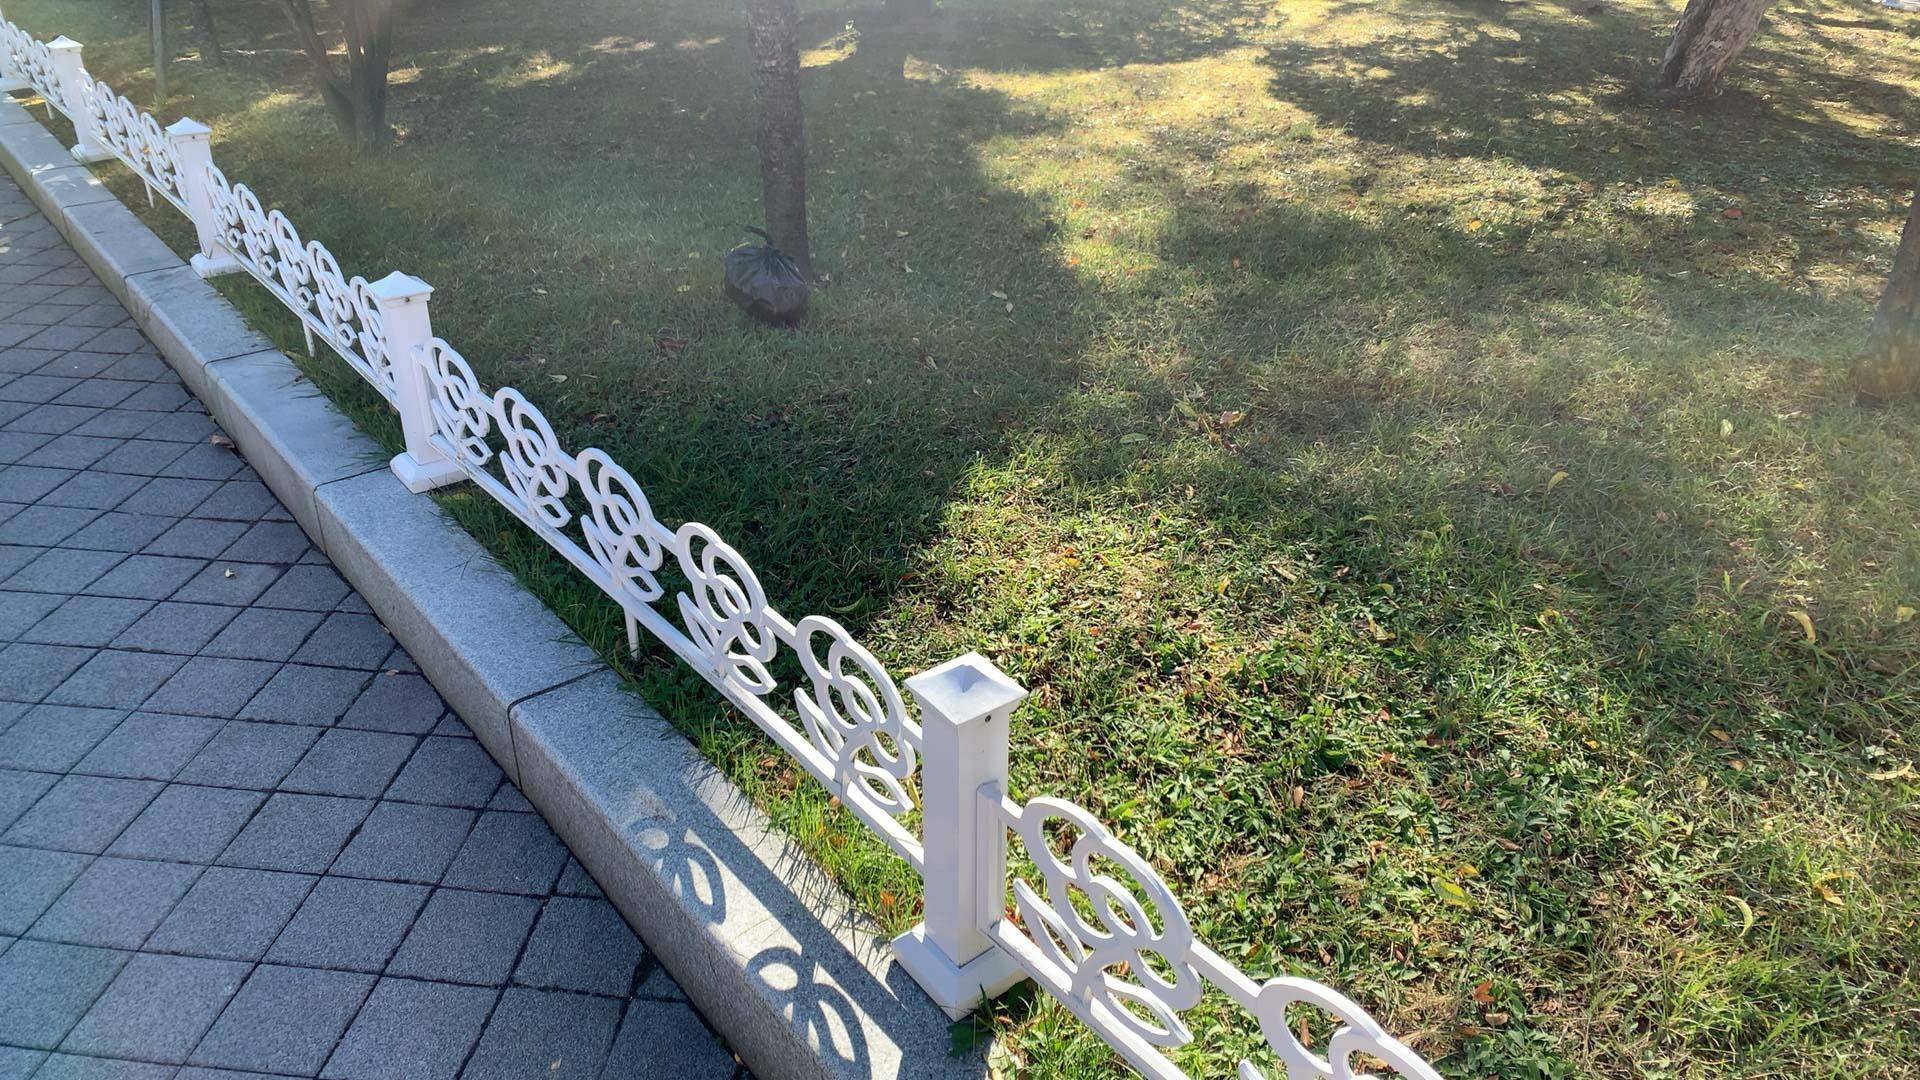white_bag: (709, 222, 819, 328)
